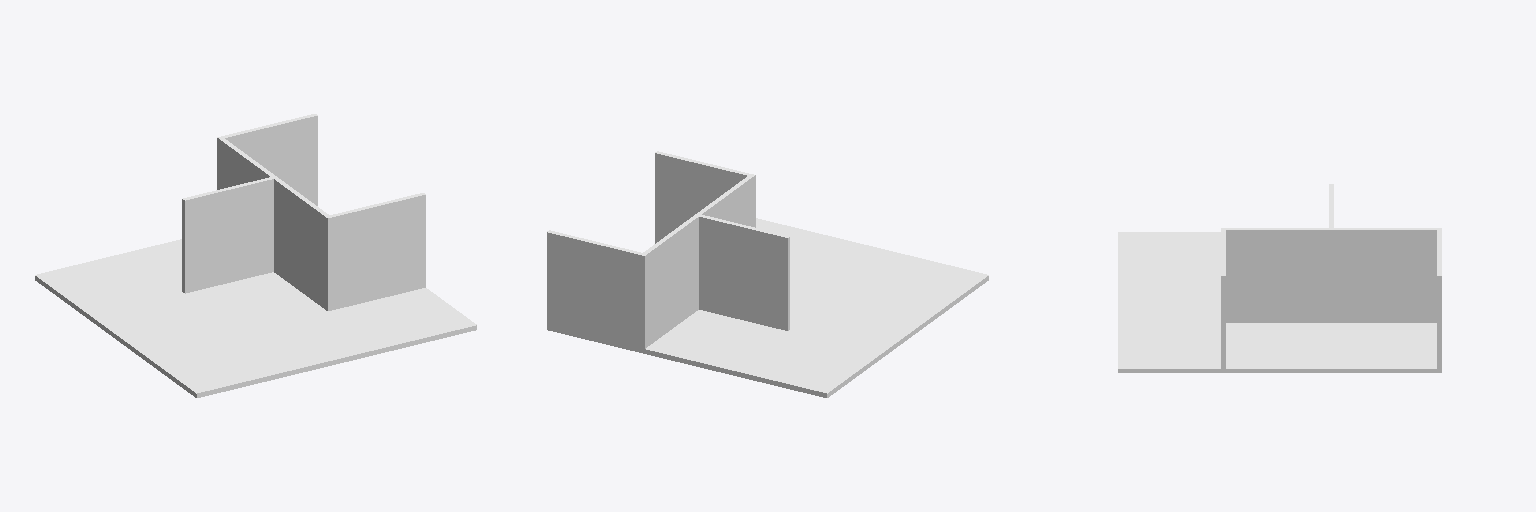
The model's file is level_maze-22.obj.
3 views of the same model, side by side, from view 1: azimuth 30°, elevation 25°; view 2: azimuth 150°, elevation 25°; view 3: azimuth 270°, elevation 25° (orthographic).
Parts seen in each view (by area): view 1: level_maze-22; view 2: level_maze-22; view 3: level_maze-22.
Part boxes in pixels (x1,y1,x2,y2): level_maze-22: (35,114,476,397); level_maze-22: (547,151,988,397); level_maze-22: (1118,184,1441,372).
Size of the model in its own units: 60 by 20 by 60.